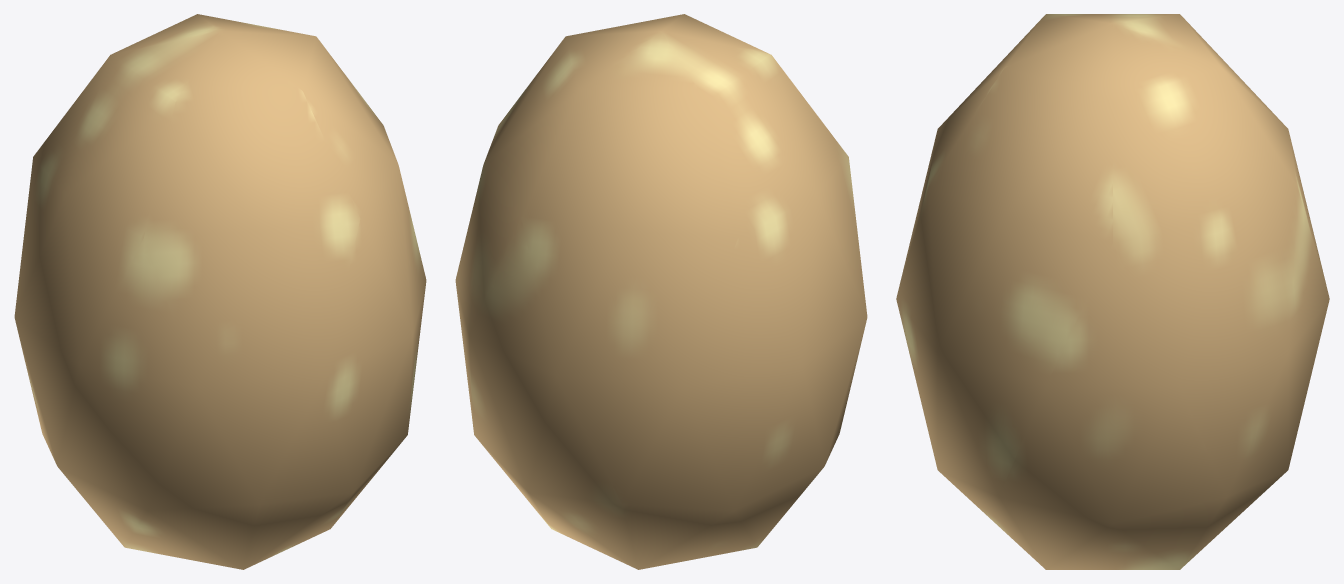
File: Egg.fbx
The picture shows the model from 3 angles, left to right: view 1: azimuth 30°, elevation 25°; view 2: azimuth 150°, elevation 25°; view 3: azimuth 270°, elevation 25°; orthographic projection. The views are drawn at different scales.
Parts seen in each view (by area): view 1: Trung; view 2: Trung; view 3: Trung.
Part boxes in pixels (x1,y1,x2,y2): Trung: (14, 14, 426, 569); Trung: (455, 14, 867, 569); Trung: (896, 14, 1329, 569).
Bounding box in the file's own units: 5.08 × 7.35 × 5.34.
Materials: 1 (1 with a texture image).
